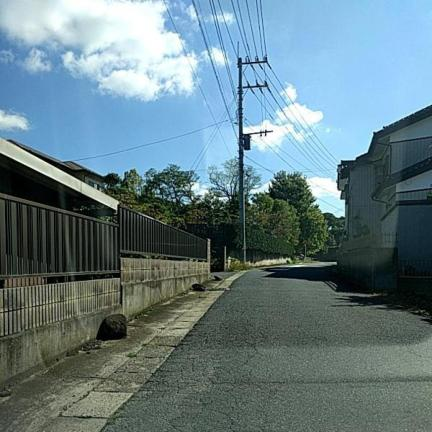Road: (105, 265, 431, 431)
